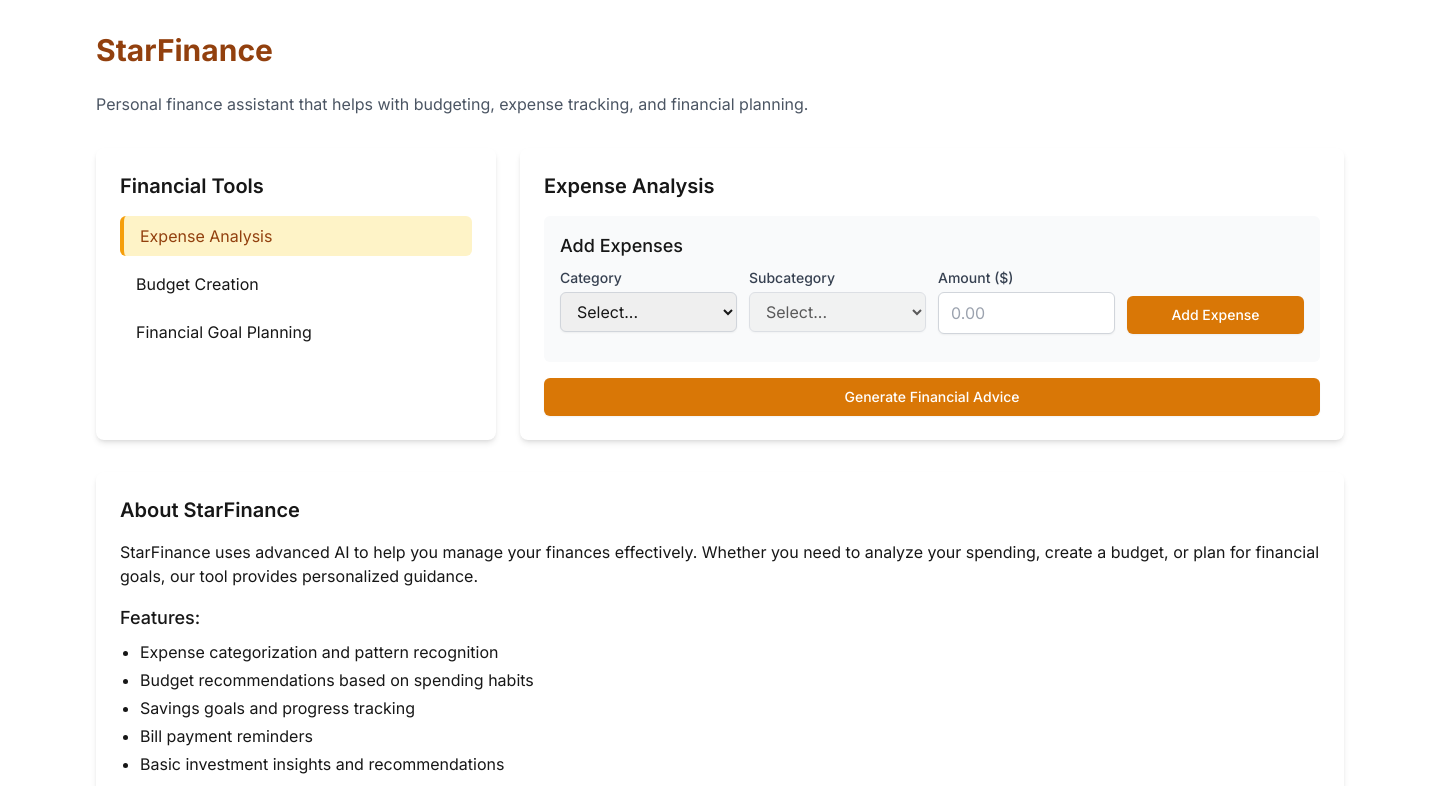
Test: StarFinance Component › submits expense analysis and displays results
# Add an expense
Select "Food" in the dropdown labelled "Category" at (648, 312), box [560,292,737,332]
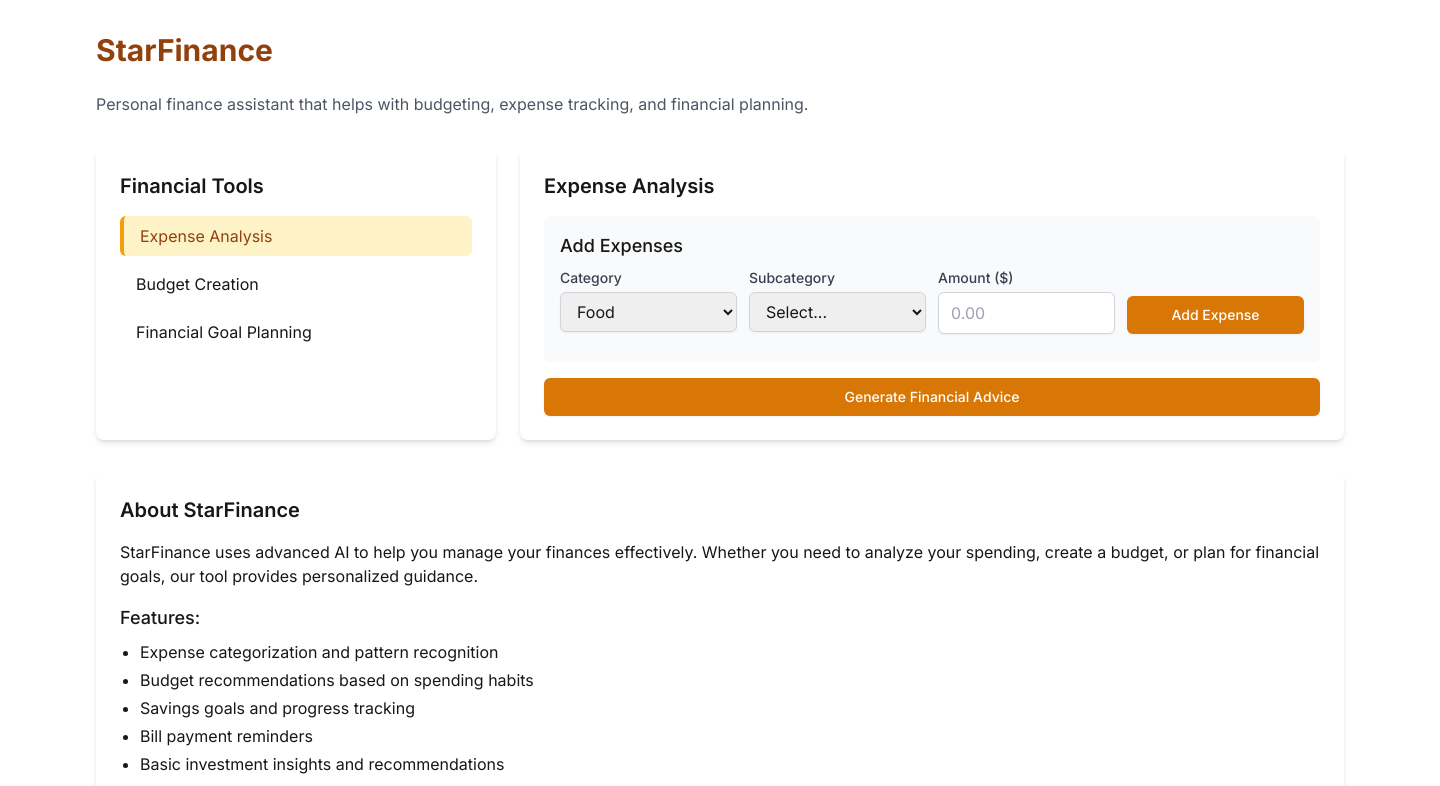
Type "50" into the number field labelled "Amount ($)".
click(1026, 313); type("50")  # box [938,292,1115,334]
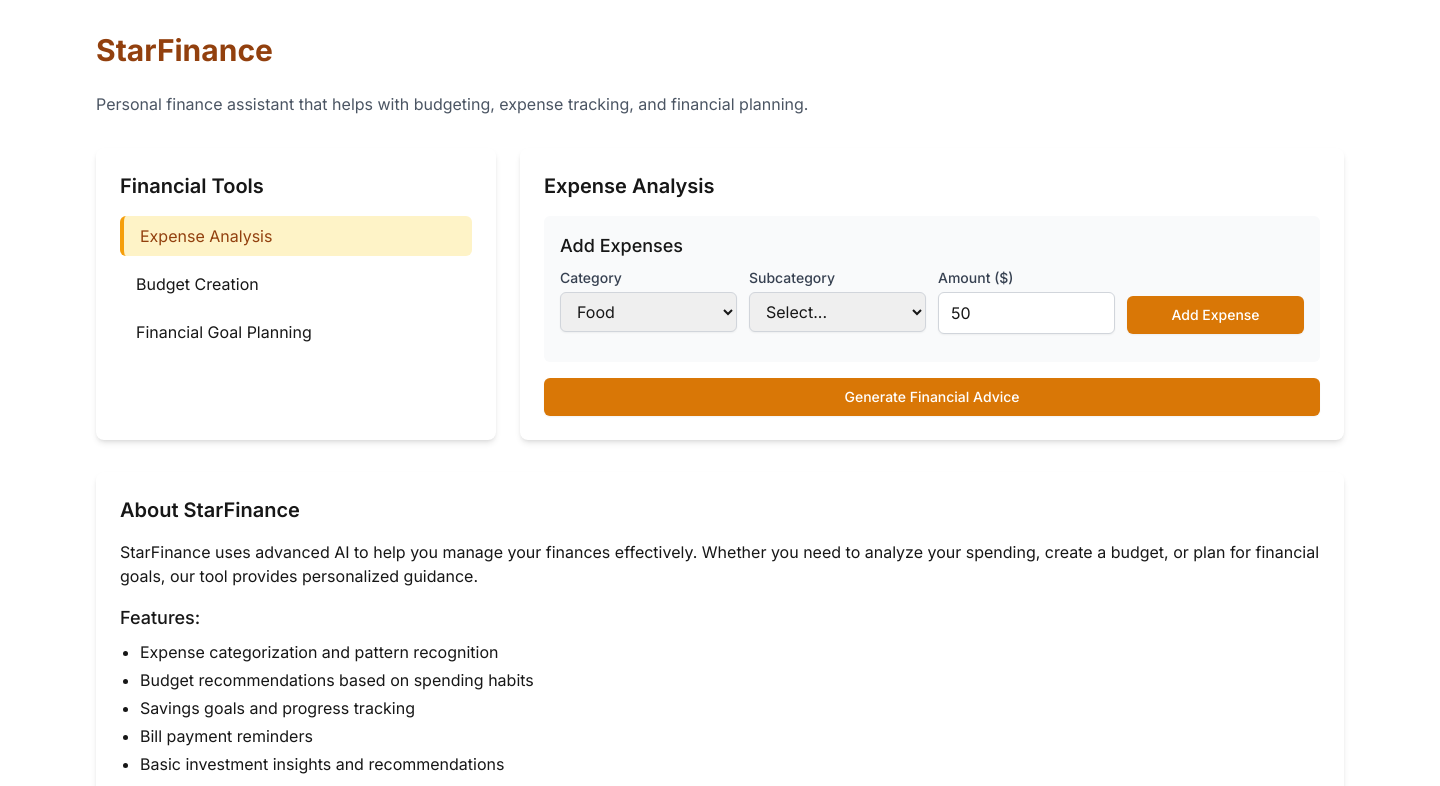
Click the button "Add Expense".
click(1216, 315)  # box [1127,296,1304,334]
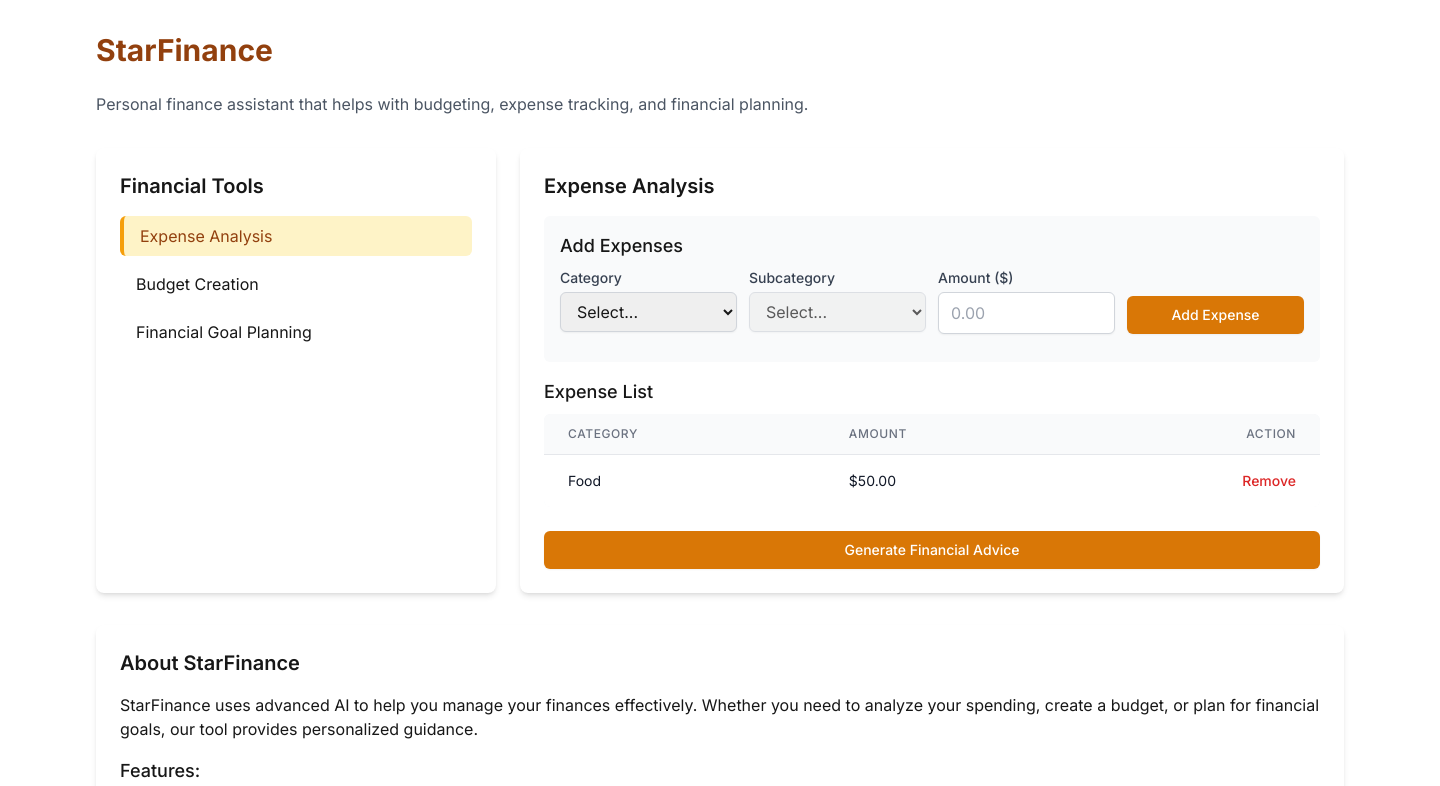
# Submit the form
Click the button "Generate Financial Advice".
click(932, 550)  # box [544,531,1320,569]
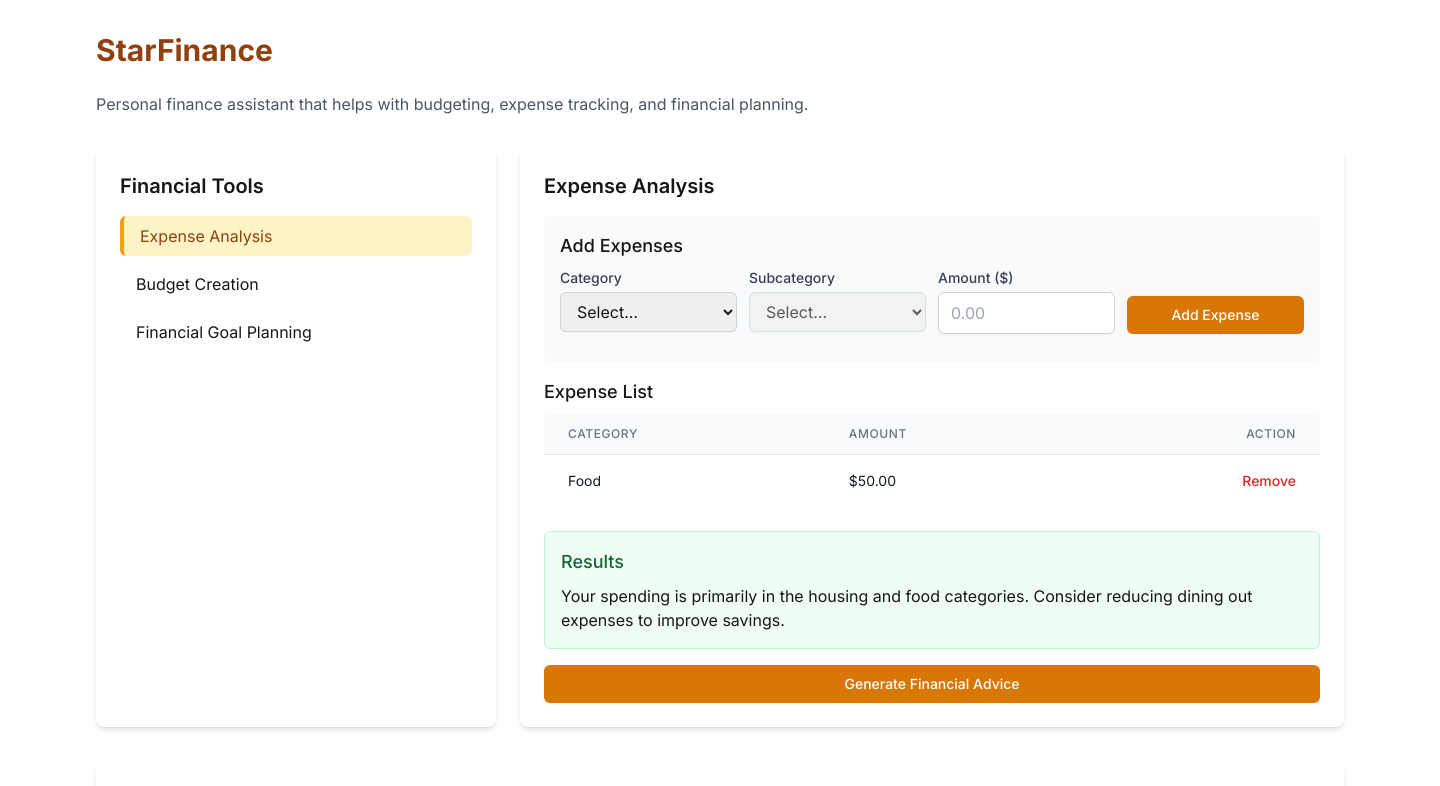
Expected: the button "Processing..." is shown, [544,665,1320,703]
Now the text "Your spending is primarily in the housing and food categories. Consider reducing dining out expenses to improve savings." is shown, box [561,586,1257,630]
